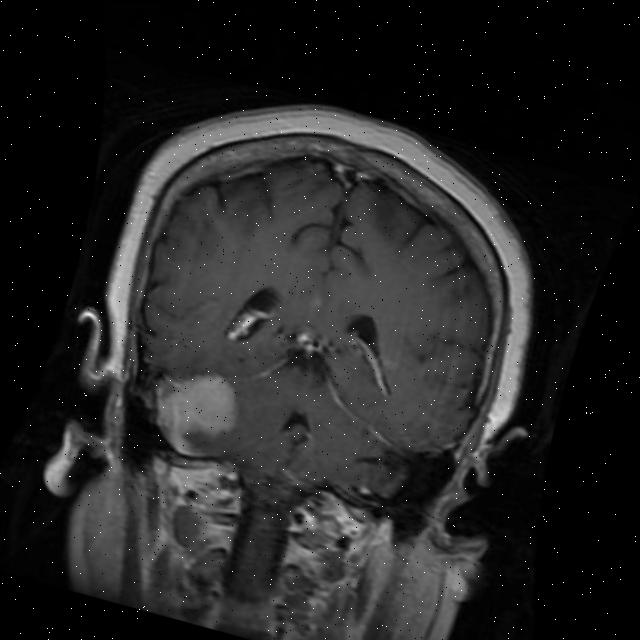Meningioma: (146, 356, 251, 452)
